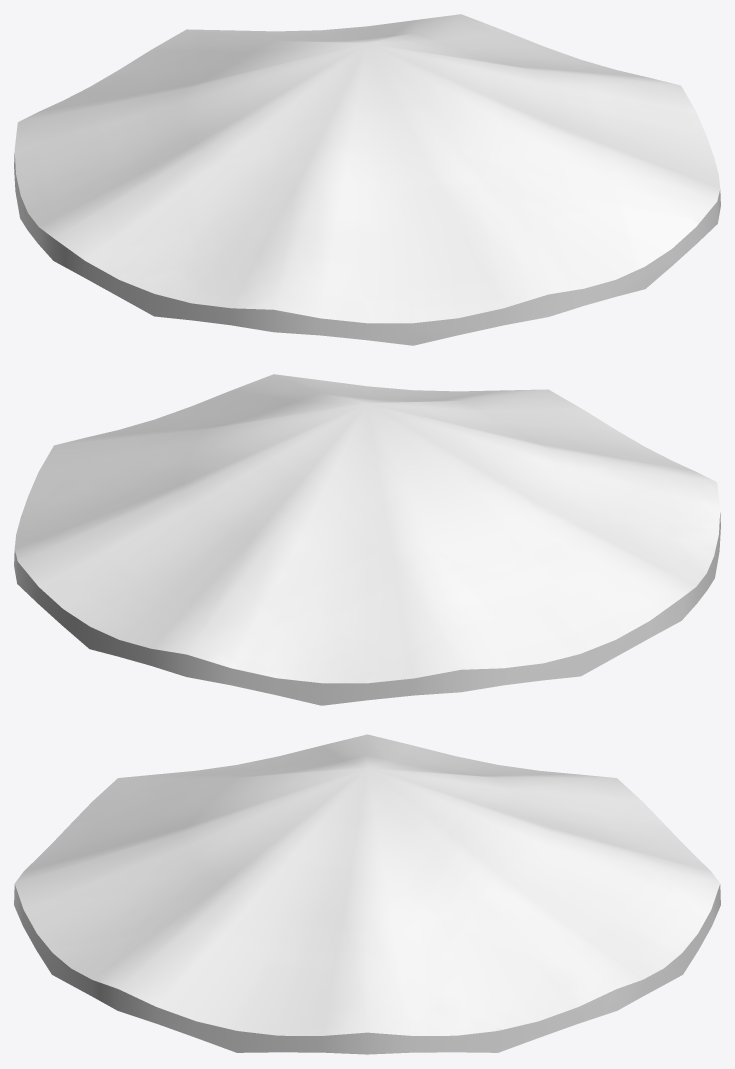
Rendered from pool_umbrella_canopy.glb.
The picture shows the model from 3 angles, top to bottom: view 1: azimuth 30°, elevation 25°; view 2: azimuth 150°, elevation 25°; view 3: azimuth 270°, elevation 25°; orthographic projection. The views are drawn at different scales.
Visible parts, largest first — view 1: pool_umbrella_canopy; view 2: pool_umbrella_canopy; view 3: pool_umbrella_canopy.
Boxes of the visible parts, x1=… form: pool_umbrella_canopy: x1=14, y1=14, x2=720, y2=345; pool_umbrella_canopy: x1=14, y1=374, x2=720, y2=705; pool_umbrella_canopy: x1=14, y1=734, x2=720, y2=1054.
Bounding box in the file's own units: 3.11 × 0.7353 × 3.11.
1 material, 1 textured.
